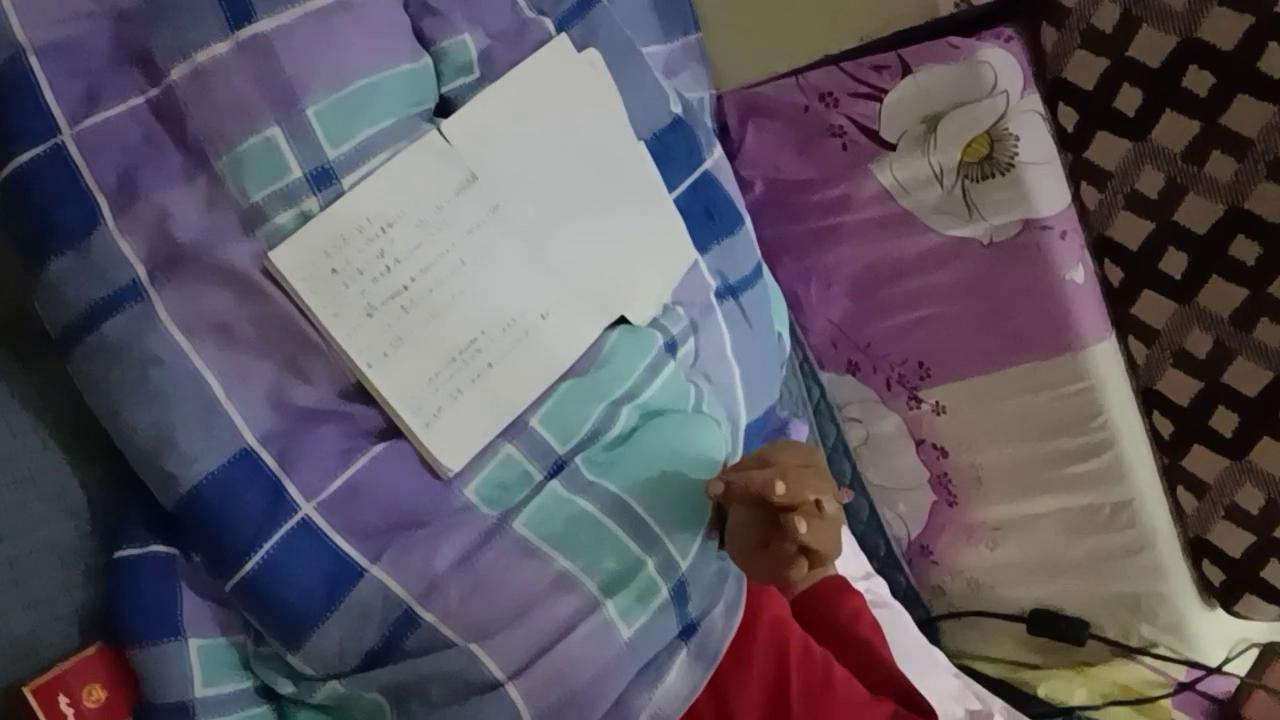smoke: (780, 487, 855, 528)
